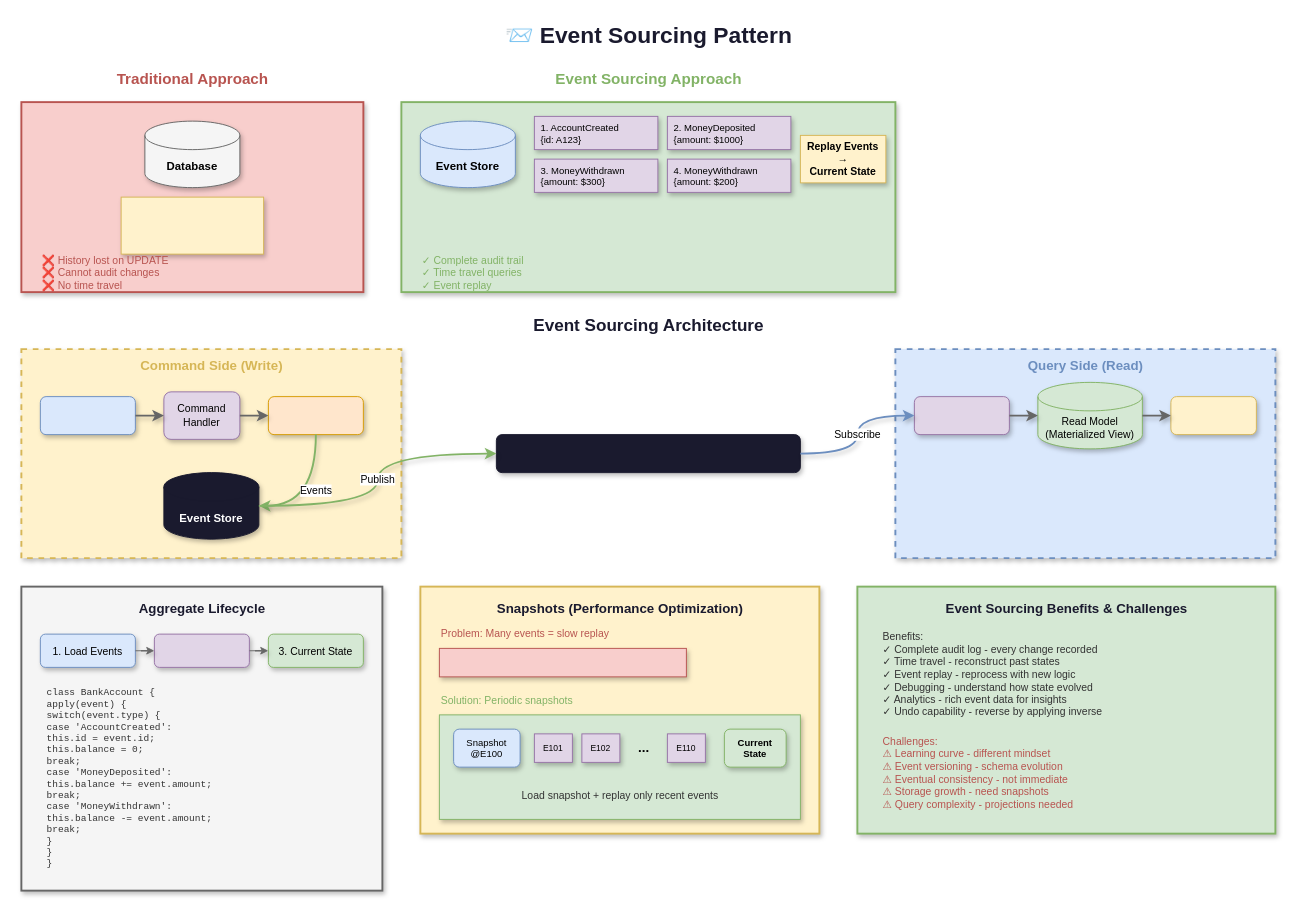
Some shapes in this 1298 by 914 pixel diagram are drawn without their labels. The centre of each missing label's shape, as x and y in pixels:
2. Replay Events: the point at 202,651
Account: A123 Balance: $500 (Current State Only): the point at 192,226
Aggregate: the point at 316,416
Command: the point at 88,416
E1 → E2 → E3 → ... → E999 → E1000: the point at 563,664
Event Bus / Message Broker: the point at 649,454
Projection: the point at 962,416
Query: the point at 1214,416
